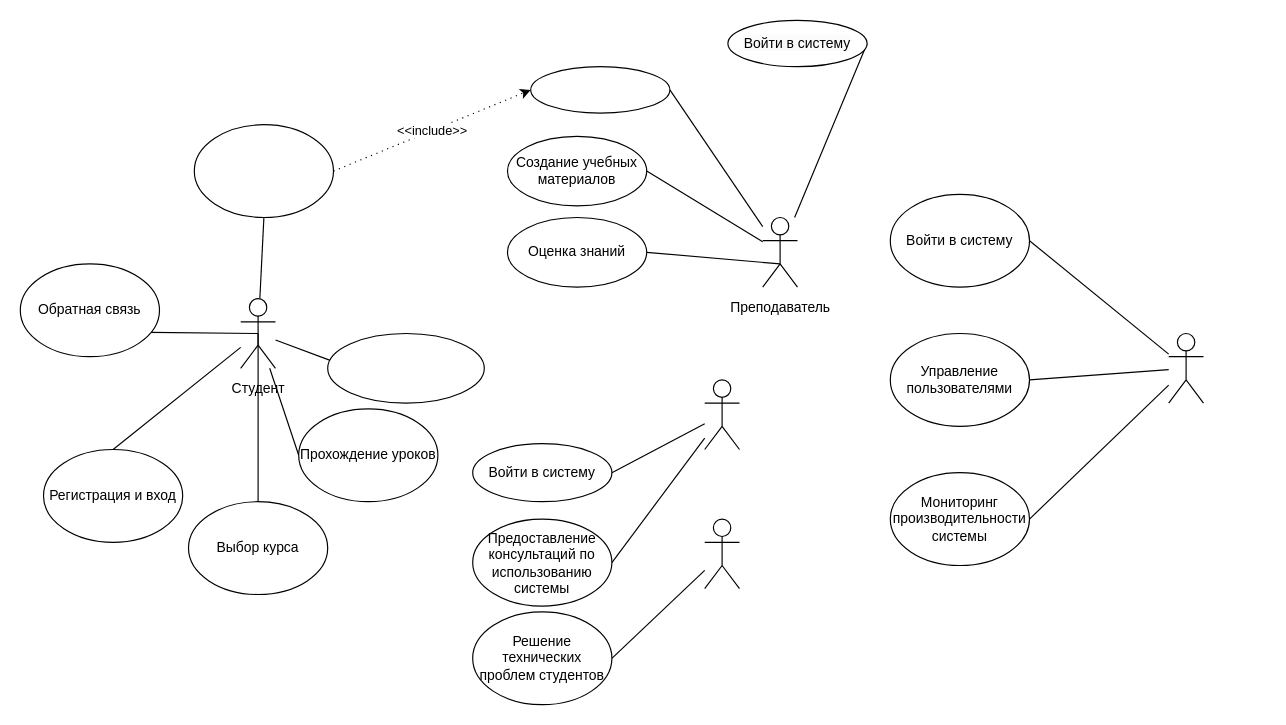
Image size: 1286x725. Some labels were removed from this diagram. Here are the shapes that lost their labels. From the top down, the centre of each, then its label:
[600,89]: Ввести учебные данные
[263,170]: Просмотреть личные оценки и рейтинг
[405,367]: Голосовой наставник
[1186,367]: Администратор системы
[722,414]: Техническая поддержка
[722,553]: Технический специалист
